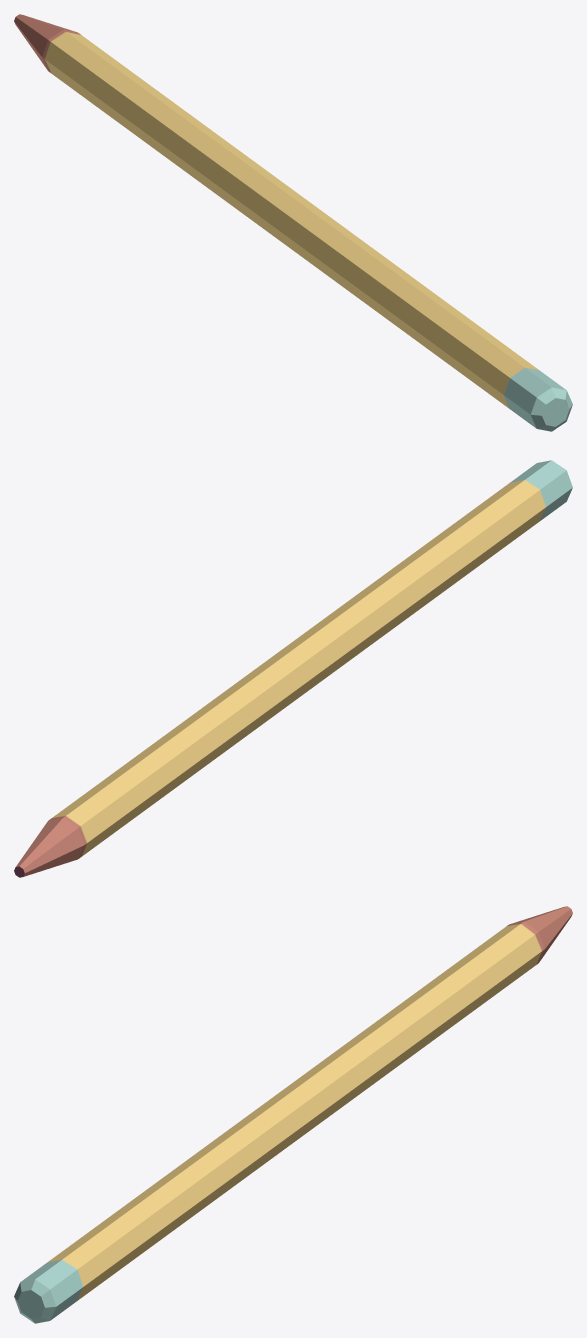
File: Pencil.fbx
The picture shows the model from 3 angles, top to bottom: view 1: azimuth 30°, elevation 25°; view 2: azimuth 150°, elevation 25°; view 3: azimuth 330°, elevation 25°; orthographic projection.
Visible parts, largest first — view 1: Pencil; view 2: Pencil; view 3: Pencil.
Part boxes in pixels (bbox=[...]): Pencil: bbox=[14, 14, 572, 431]; Pencil: bbox=[14, 460, 572, 877]; Pencil: bbox=[14, 906, 572, 1323].
Size of the model in its own units: 39.55 by 39.55 by 867.
